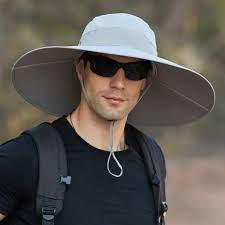cap: (7, 0, 221, 133)
